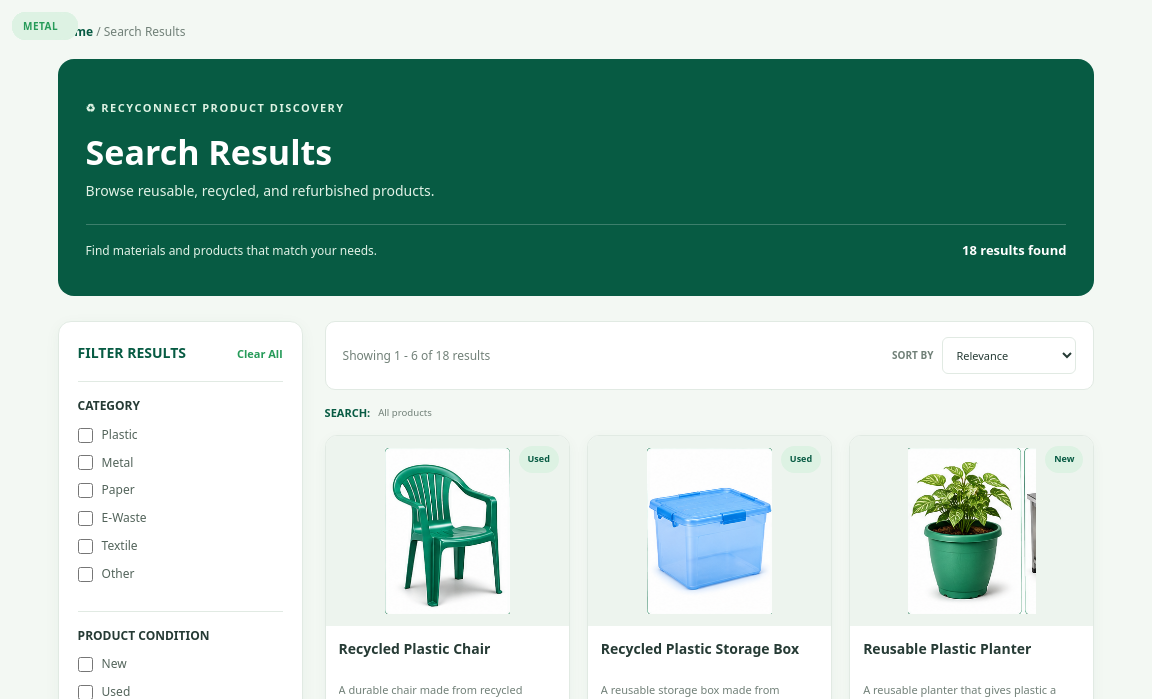
Scenario: SearchResults Component › allows deselecting a category
The image size is (1152, 699).
Click the checkbox labelled "Plastic" at x=85, y=435, box left=78, top=428, right=93, bottom=443
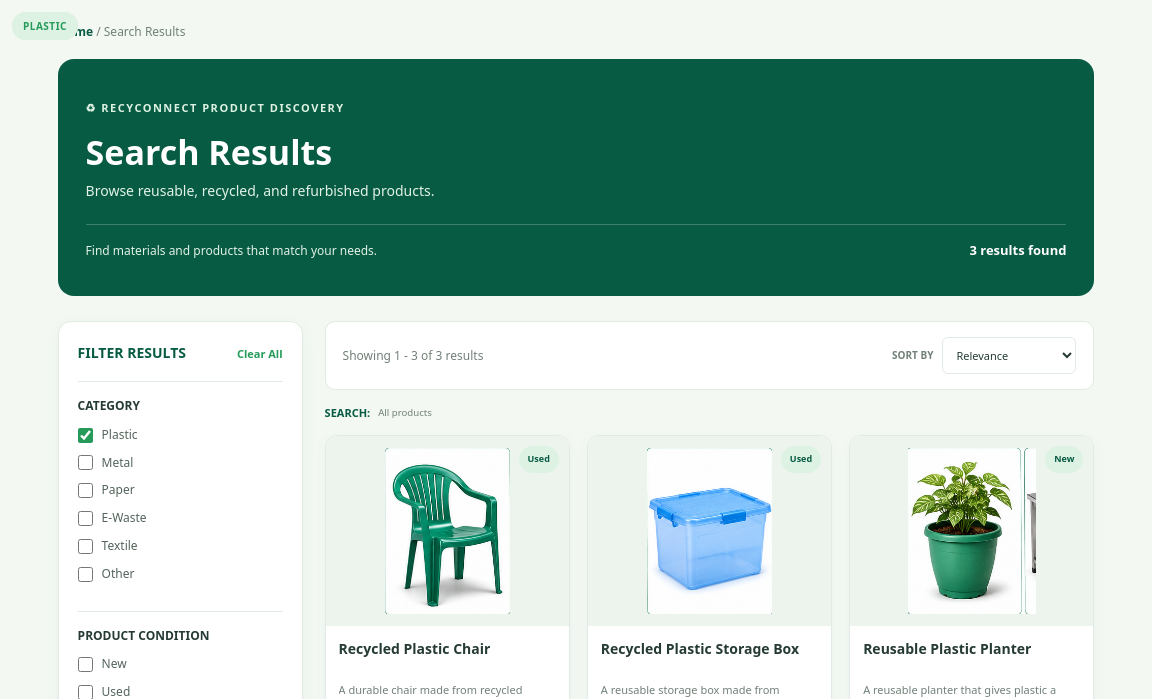
Click the checkbox labelled "Plastic" at x=85, y=435, box left=78, top=428, right=93, bottom=443
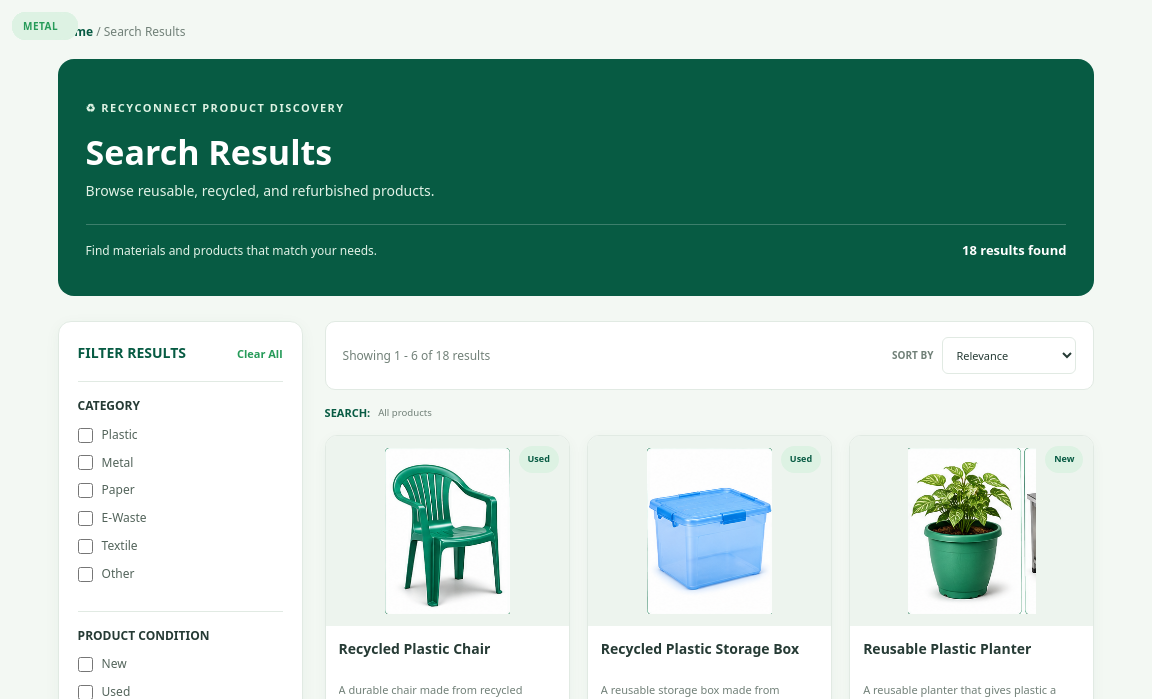
Result: the checkbox labelled "Plastic" is not checked at left=78, top=428, right=93, bottom=443
